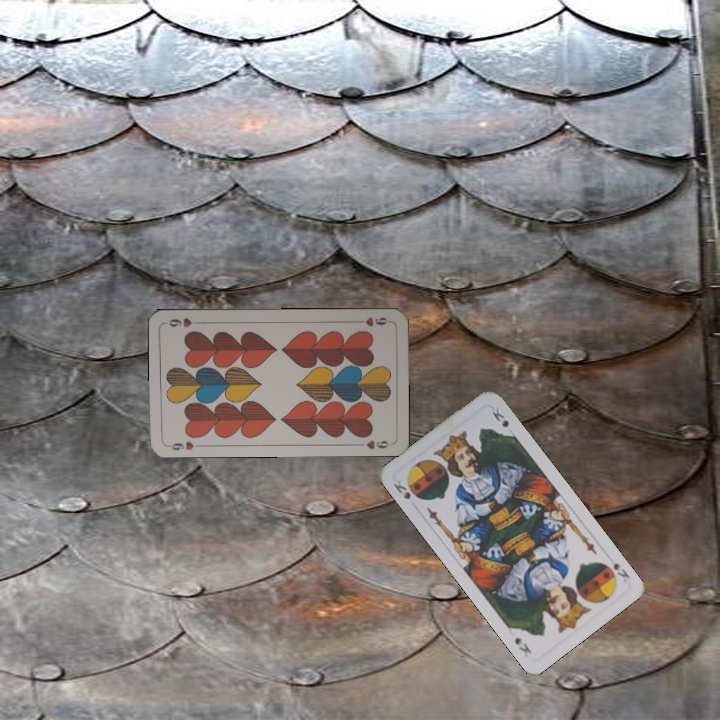H9: (352, 313, 392, 329), (164, 438, 204, 453)
SK: (389, 475, 414, 502), (609, 558, 633, 585)
